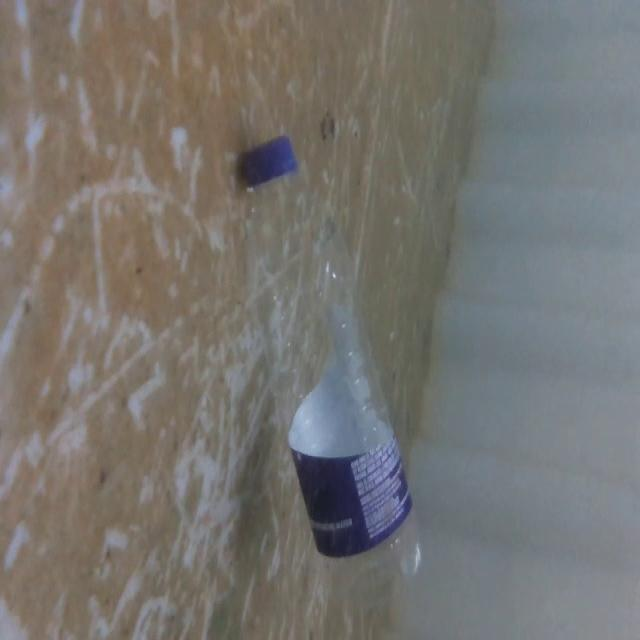plastic bottle: (232, 128, 434, 602)
